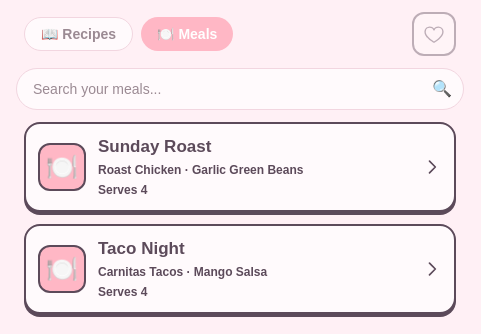
Scenario: Meals tab search (issue #904) › keeps the query per tab, not shared
Type "taco" into the field with placeholder "Search your meals...".
click(240, 89); type("taco")  # box [16,68,464,110]
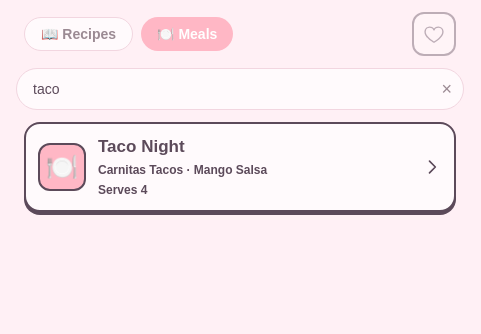
Click the tab "📖 Recipes".
click(79, 34)  # box [24,17,133,51]
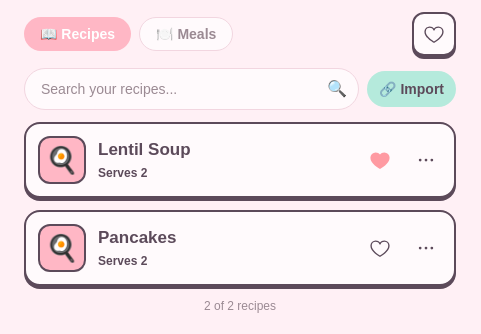
Check: the field with placeholder "Search your recipes..." is empty
Check: the number of elements with test id "recipe-card-saved" is 2, box [24,122,456,198]; [24,210,456,286]
Type "lentil" into the field with placeholder "Search your recipes...".
click(192, 89); type("lentil")  # box [24,68,359,110]
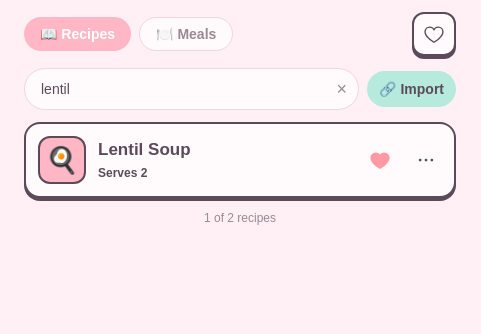
Check: the number of elements with test id "recipe-card-saved" is 1, box [24,122,456,198]
Click the tab "🍽️ Meals".
click(186, 34)  # box [139,17,233,51]
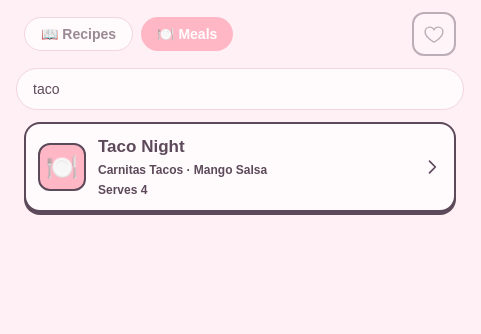
Check: the number of list items is 1, box [24,122,456,212]
Check: the field with placeholder "Search your meals..." holds "taco", box [16,68,464,110]
Check: the list item shows "Taco Night", box [26,124,454,210]
Click the tab "📖 Recipes".
click(79, 34)  # box [24,17,133,51]
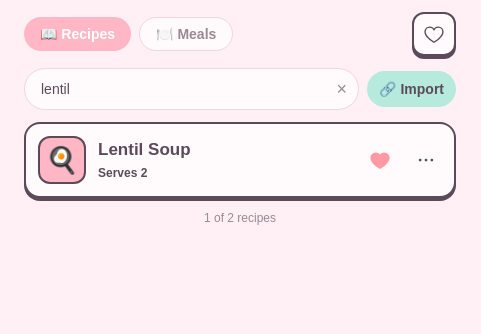
Check: the field with placeholder "Search your recipes..." holds "lentil", box [24,68,359,110]
